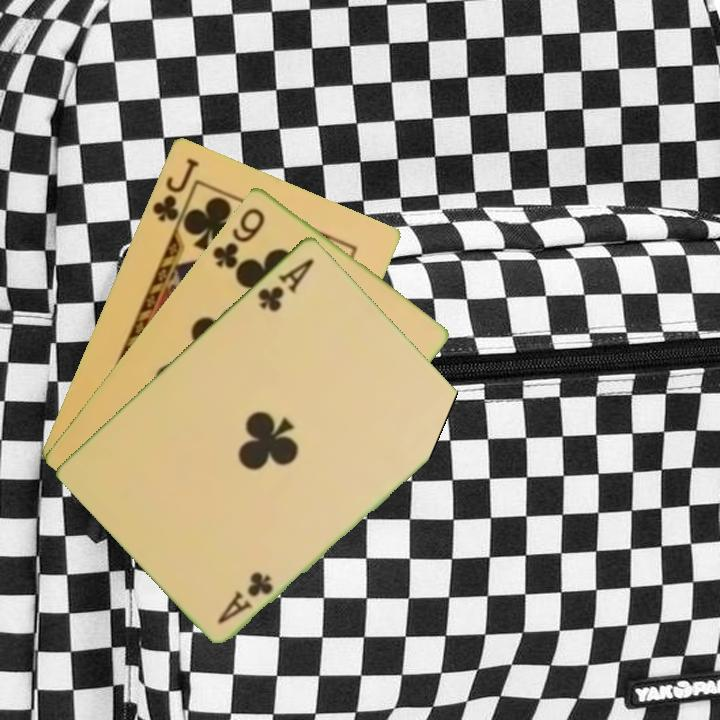9c: (208, 203, 268, 271)
Ac: (213, 567, 277, 627), (254, 254, 317, 314)
Jc: (148, 154, 202, 224)
